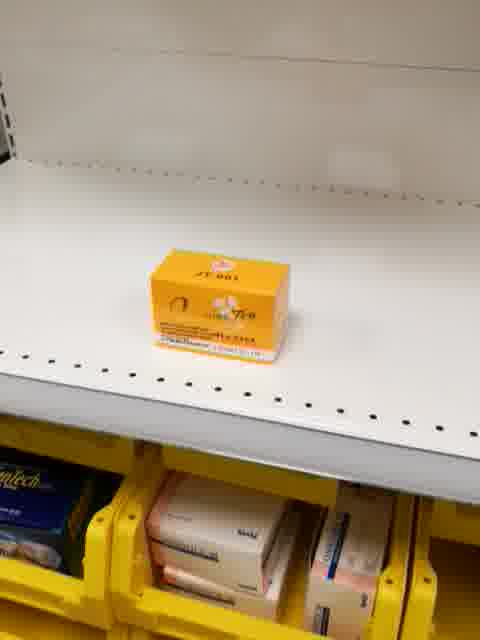jasminetea: (149, 248, 294, 368)
